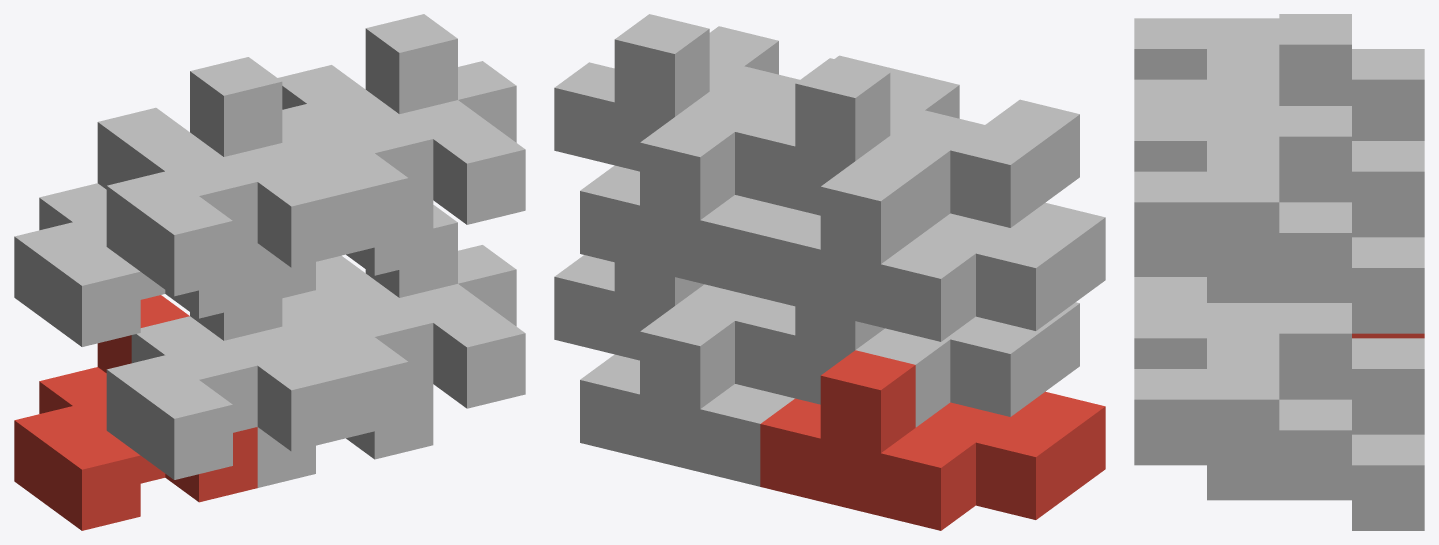
File: tiling.obj
3 views of the same model, side by side, from view 1: azimuth 30°, elevation 25°; view 2: azimuth 150°, elevation 25°; view 3: azimuth 270°, elevation 25° (orthographic). The views are drawn at different scales.
Visible parts, largest first — view 1: copy_1_domain_4, copy_1_domain_8, copy_1_domain_2, copy_1_domain_6, copy_1_domain_3, copy_1_domain_1, copy_1_domain_7, copy_1_domain_5; view 2: copy_1_domain_3, copy_1_domain_1, copy_1_domain_4, copy_1_domain_2, copy_1_domain_8, copy_1_domain_7, copy_1_domain_5, copy_1_domain_6; view 3: copy_1_domain_6, copy_1_domain_8, copy_1_domain_4, copy_1_domain_5, copy_1_domain_7, copy_1_domain_3, copy_1_domain_2, copy_1_domain_1.
Boxes of the visible parts, bbox=[...] form: copy_1_domain_4: bbox=[106, 57, 349, 296]; copy_1_domain_8: bbox=[282, 14, 525, 253]; copy_1_domain_2: bbox=[106, 291, 349, 479]; copy_1_domain_6: bbox=[283, 205, 525, 437]; copy_1_domain_3: bbox=[14, 107, 257, 346]; copy_1_domain_1: bbox=[14, 295, 257, 530]; copy_1_domain_7: bbox=[257, 65, 433, 304]; copy_1_domain_5: bbox=[257, 255, 433, 487]; copy_1_domain_3: bbox=[760, 161, 1105, 341]; copy_1_domain_1: bbox=[760, 350, 1105, 530]; copy_1_domain_4: bbox=[735, 58, 1079, 238]; copy_1_domain_2: bbox=[735, 299, 1079, 427]; copy_1_domain_8: bbox=[554, 14, 898, 171]; copy_1_domain_7: bbox=[580, 117, 794, 297]; copy_1_domain_5: bbox=[580, 306, 794, 486]; copy_1_domain_6: bbox=[554, 255, 764, 360]; copy_1_domain_6: bbox=[1134, 303, 1351, 495]; copy_1_domain_8: bbox=[1134, 106, 1351, 298]; copy_1_domain_4: bbox=[1134, 14, 1351, 110]; copy_1_domain_5: bbox=[1207, 338, 1424, 530]; copy_1_domain_7: bbox=[1207, 141, 1424, 333]; copy_1_domain_3: bbox=[1352, 49, 1424, 140]; copy_1_domain_2: bbox=[1134, 268, 1279, 307]; copy_1_domain_1: bbox=[1352, 333, 1424, 338].
Size of the model in its own units: 8 by 6 by 4.
